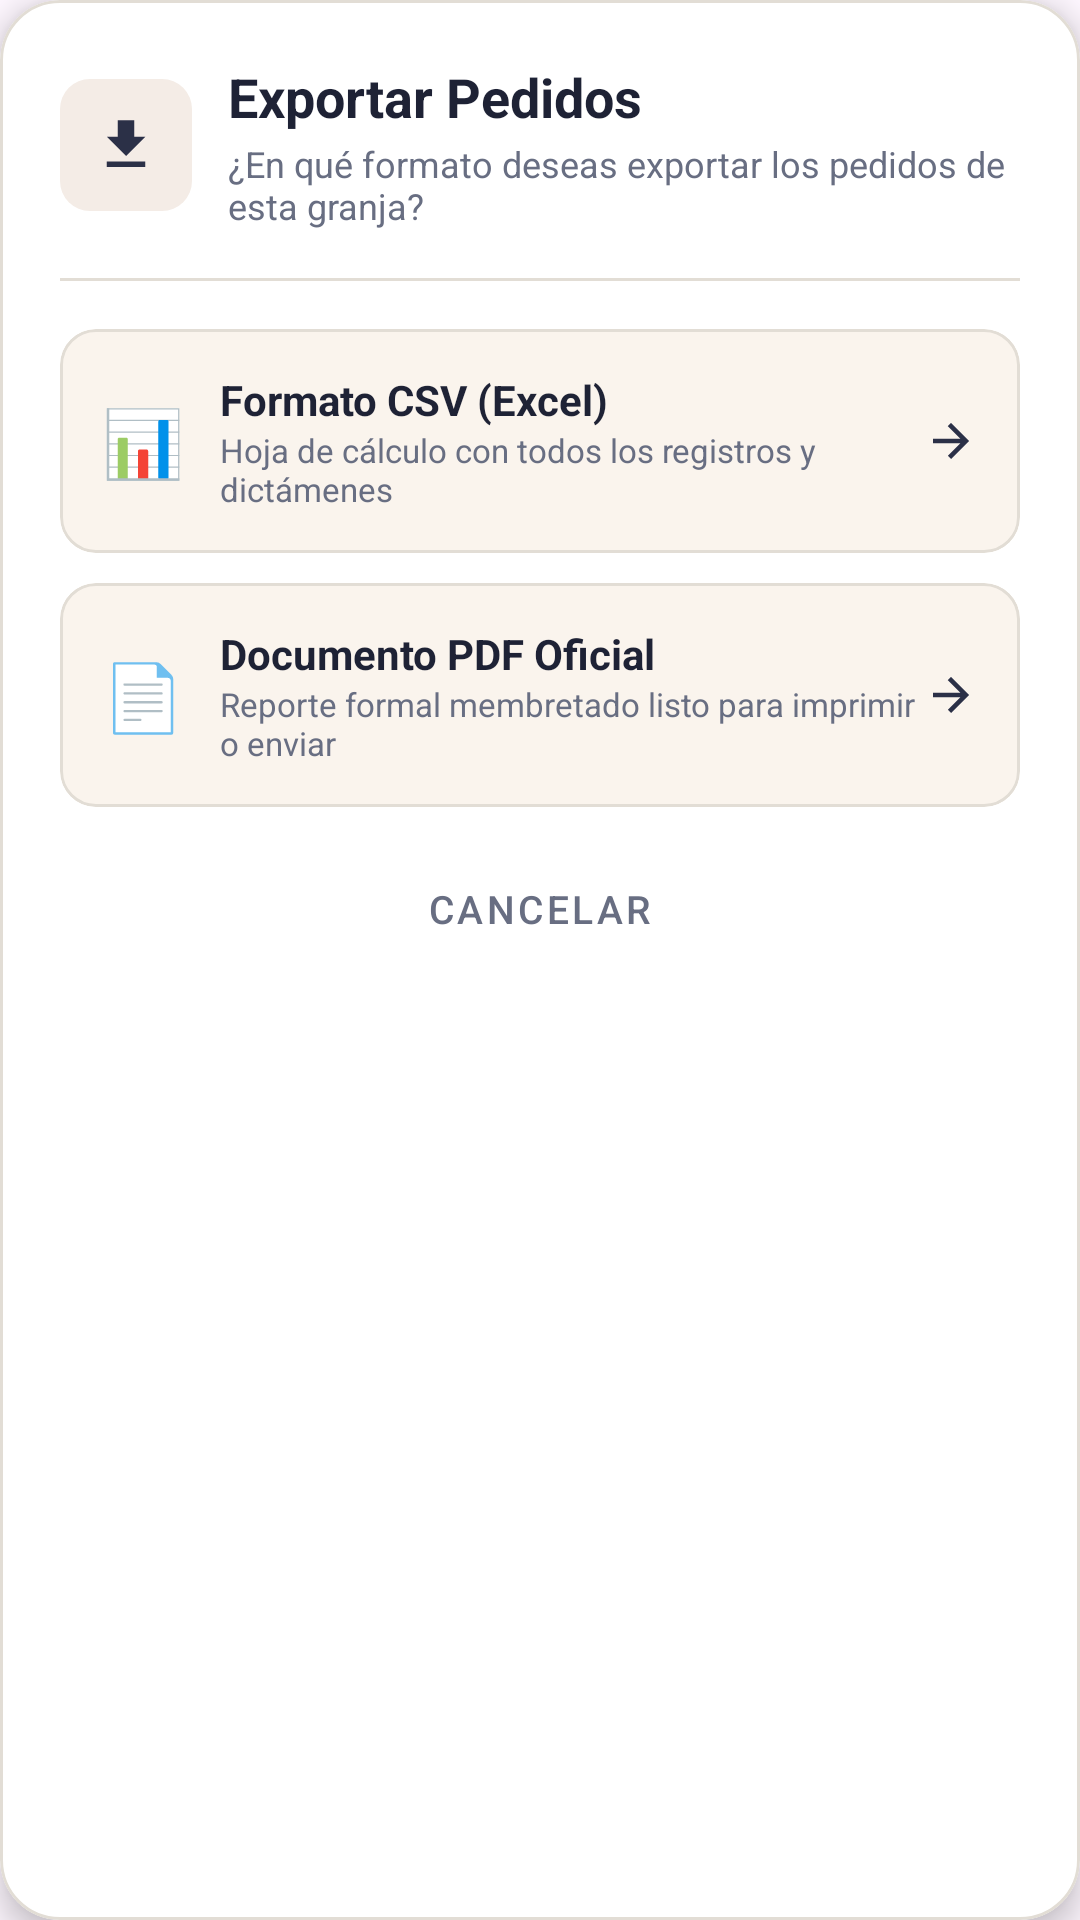

Named icons in this screenshot (1080*1920) and their centers, point (x, y):
Forward: point (951, 441), point (951, 695)
